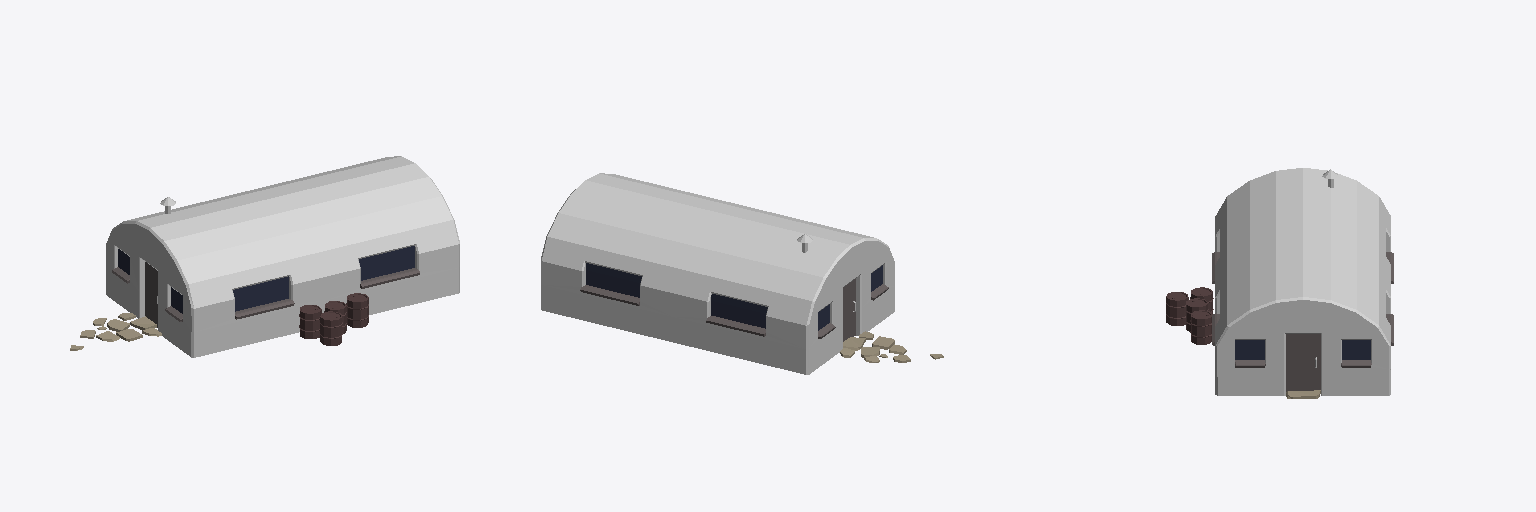
Rendered from building02.obj.
3 views of the same model, side by side, from view 1: azimuth 30°, elevation 25°; view 2: azimuth 150°, elevation 25°; view 3: azimuth 270°, elevation 25° (orthographic).
Parts seen in each view (by area): view 1: Building02; view 2: Building02; view 3: Building02.
Part boxes in pixels (left/top/right/bottom): Building02: left=70, top=156, right=459, bottom=357; Building02: left=541, top=173, right=943, bottom=374; Building02: left=1166, top=168, right=1393, bottom=398.
Size of the model in its own units: 9.55 by 2.84 by 5.22.